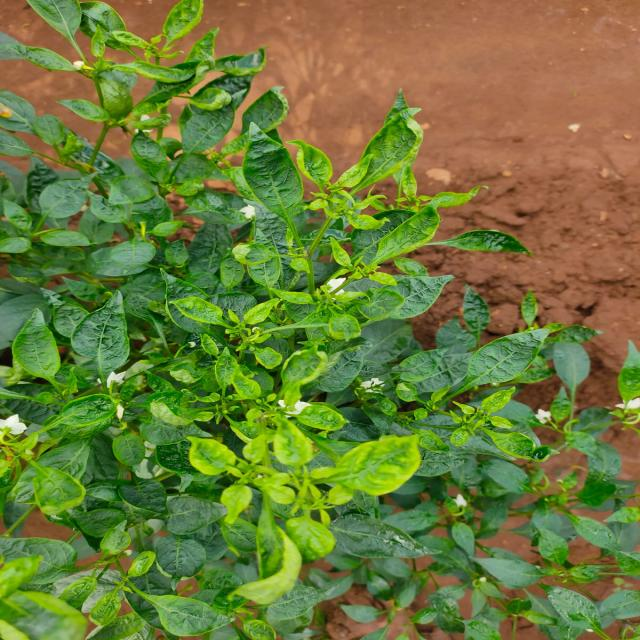Moko: (139, 282, 455, 579), (165, 87, 512, 307), (0, 291, 152, 549), (0, 0, 266, 135)
